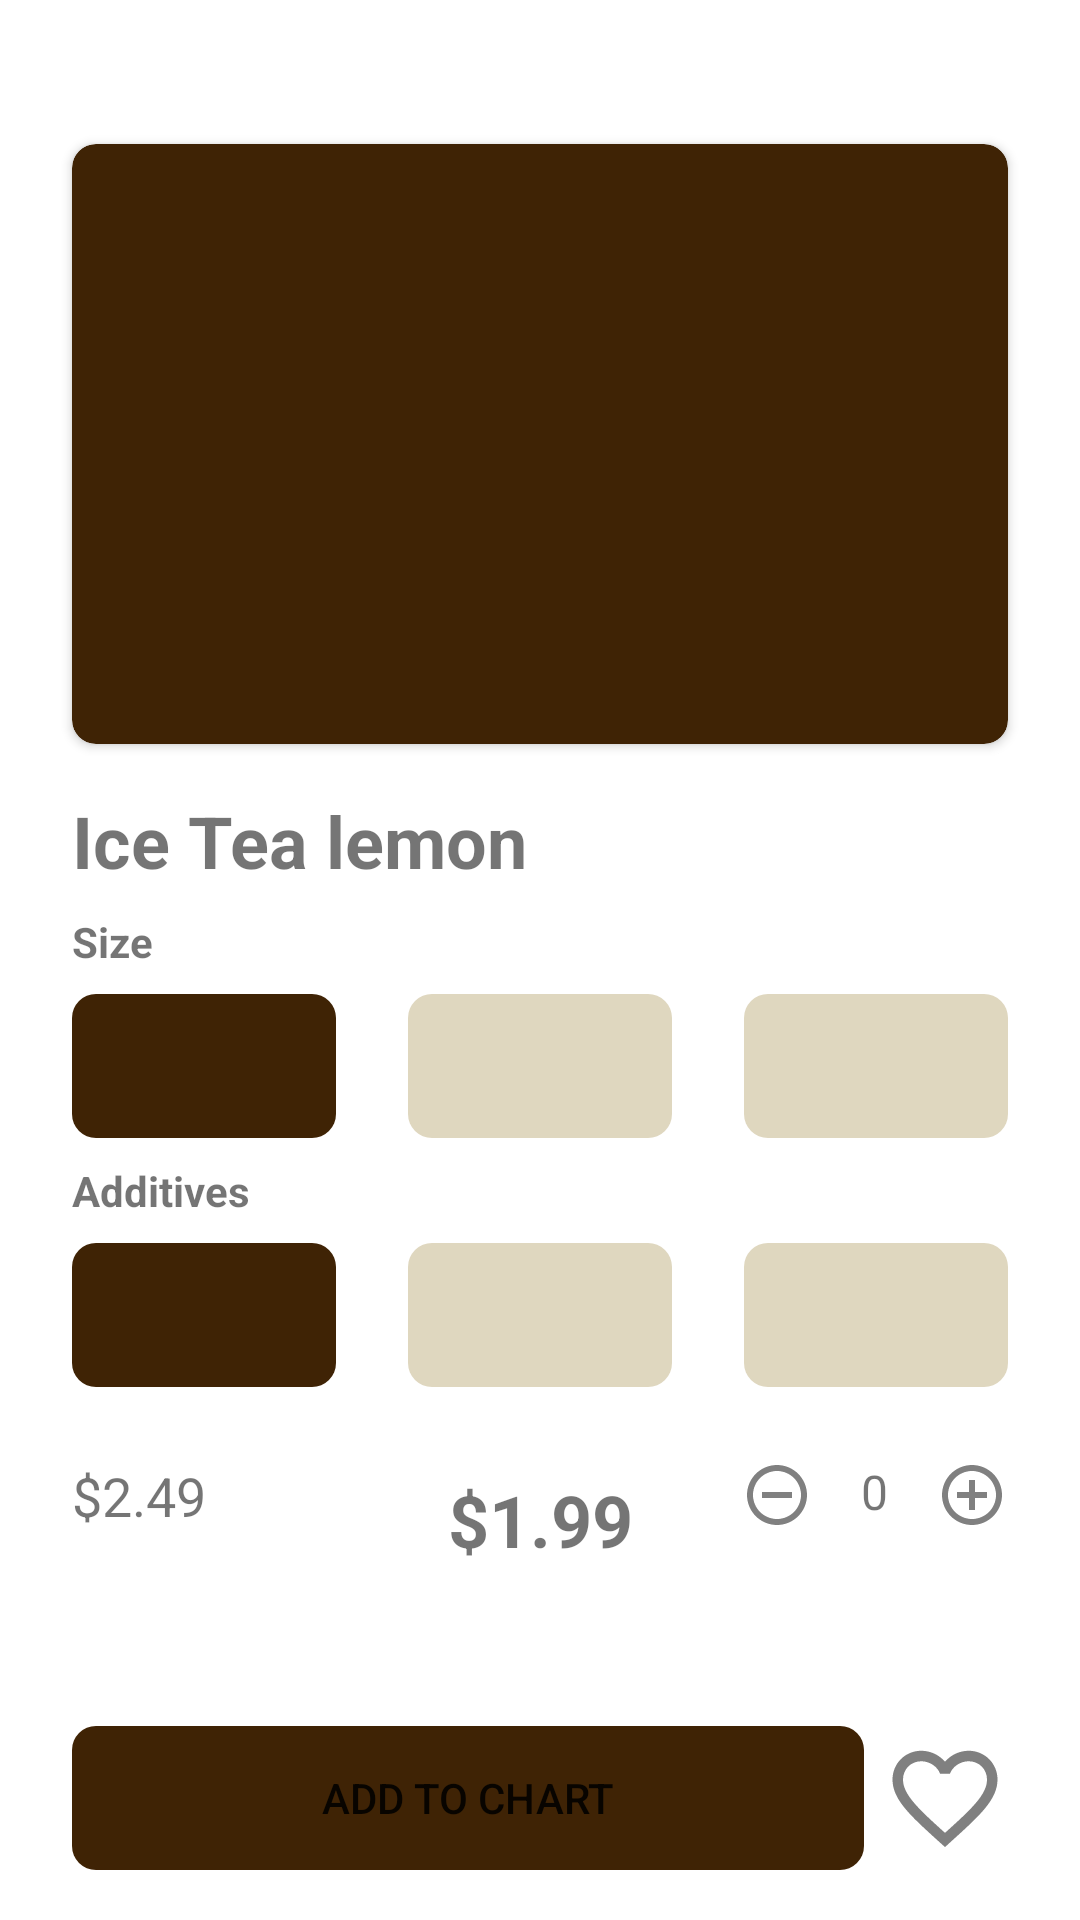

Locate icon controls on the screen. Image size 1080 x 1920, boxes as BBox(x1, y1, x2, y2).
favorite: BBox(892, 1750, 998, 1847)
plus: BBox(942, 1465, 1002, 1525)
remove: BBox(747, 1465, 807, 1525)
